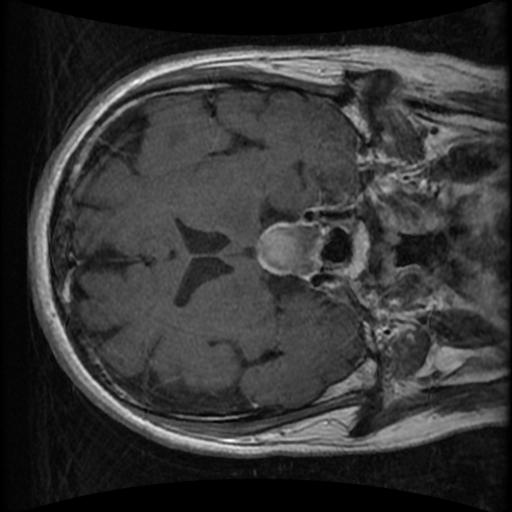pituitary tumour: (258, 225, 311, 274)
